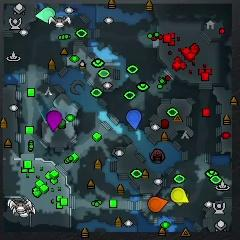p1: (126, 109, 141, 130)
p2: (36, 7, 56, 23)
p3: (47, 111, 62, 132)
p4: (171, 187, 188, 203)
p5: (148, 197, 168, 212)
x2: (174, 192, 189, 206)
